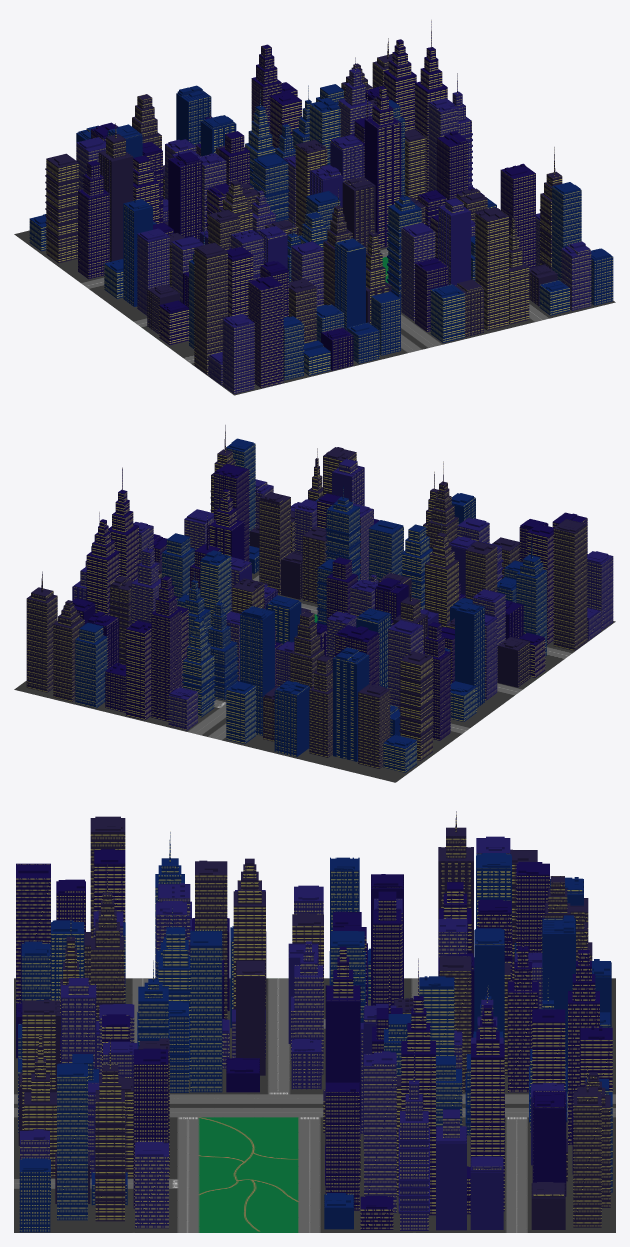
File: Cityscape.obj
3 renders of one model, top to bottom at view 1: azimuth 30°, elevation 25°; view 2: azimuth 150°, elevation 25°; view 3: azimuth 270°, elevation 25°, orthographic. The views are drawn at different scales.
Visible parts, largest first — view 1: g qTown_basePlane_geo, g building_grp grp_building_geo92, g building_grp grp_building_geo33, g building_grp grp_building_geo94, g building_grp grp_building_geo93, g building_grp grp_building_geo149, g building_grp grp_building_geo122, g building_grp grp_building_geo123, g building_grp grp_building_geo114, g building_grp grp_building_geo45, g building_grp grp_building_geo6, g building_grp grp_building_geo18 (+71 smaller); view 2: g qTown_basePlane_geo, g building_grp grp_building_geo33, g building_grp grp_building_geo159, g building_grp grp_building_geo68, g building_grp grp_building_geo149, g building_grp grp_building_geo167, g building_grp grp_building_geo86, g building_grp grp_building_geo56, g building_grp grp_building_geo113, g building_grp grp_building_geo178, g building_grp grp_building_geo186, g building_grp grp_building_geo160 (+63 smaller); view 3: g qTown_basePlane_geo, g building_grp grp_building_geo50, g building_grp grp_building_geo30, g building_grp grp_building_geo82, g building_grp grp_building_geo72, g building_grp grp_building_geo147, g building_grp grp_building_geo161, g building_grp grp_building_geo92, g building_grp grp_building_geo86, g building_grp grp_building_geo109, g building_grp grp_building_geo97, g building_grp grp_building_geo85 (+68 smaller).
Boxes of the visible parts, x1=… form: g qTown_basePlane_geo: x1=14, y1=230, x2=615, y2=395; g building_grp grp_building_geo92: x1=364, y1=86, x2=401, y2=247; g building_grp grp_building_geo33: x1=194, y1=242, x2=227, y2=374; g building_grp grp_building_geo94: x1=475, y1=207, x2=508, y2=330; g building_grp grp_building_geo93: x1=248, y1=276, x2=283, y2=388; g building_grp grp_building_geo149: x1=45, y1=153, x2=78, y2=263; g building_grp grp_building_geo122: x1=78, y1=160, x2=109, y2=279; g building_grp grp_building_geo123: x1=98, y1=123, x2=133, y2=261; g building_grp grp_building_geo114: x1=168, y1=151, x2=201, y2=239; g building_grp grp_building_geo45: x1=500, y1=163, x2=535, y2=267; g building_grp grp_building_geo6: x1=335, y1=238, x2=365, y2=330; g building_grp grp_building_geo18: x1=438, y1=198, x2=470, y2=285; g qTown_basePlane_geo: x1=14, y1=570, x2=615, y2=782; g building_grp grp_building_geo33: x1=553, y1=519, x2=587, y2=650; g building_grp grp_building_geo159: x1=151, y1=576, x2=181, y2=721; g building_grp grp_building_geo68: x1=333, y1=647, x2=369, y2=761; g building_grp grp_building_geo149: x1=399, y1=651, x2=433, y2=760; g building_grp grp_building_geo167: x1=240, y1=606, x2=274, y2=735; g building_grp grp_building_geo86: x1=26, y1=571, x2=57, y2=692; g building_grp grp_building_geo56: x1=259, y1=492, x2=290, y2=594; g building_grp grp_building_geo113: x1=455, y1=602, x2=484, y2=707; g building_grp grp_building_geo178: x1=274, y1=680, x2=309, y2=756; g building_grp grp_building_geo186: x1=75, y1=622, x2=107, y2=708; g building_grp grp_building_geo160: x1=126, y1=620, x2=151, y2=720; g qTown_basePlane_geo: x1=14, y1=978, x2=615, y2=1232; g building_grp grp_building_geo50: x1=190, y1=930, x2=222, y2=1092; g building_grp grp_building_geo30: x1=57, y1=1063, x2=87, y2=1220; g building_grp grp_building_geo82: x1=364, y1=1051, x2=396, y2=1212; g building_grp grp_building_geo72: x1=95, y1=1033, x2=125, y2=1221; g building_grp grp_building_geo147: x1=471, y1=1005, x2=504, y2=1211; g building_grp grp_building_geo161: x1=398, y1=1051, x2=429, y2=1230; g building_grp grp_building_geo92: x1=325, y1=946, x2=360, y2=1124; g building_grp grp_building_geo86: x1=573, y1=1064, x2=601, y2=1227; g building_grp grp_building_geo109: x1=325, y1=1082, x2=359, y2=1210; g building_grp grp_building_geo97: x1=401, y1=958, x2=435, y2=1215; g building_grp grp_building_geo85: x1=436, y1=1109, x2=466, y2=1230.
Size of the model in its own units: 75 by 35.89 by 75.
Materials: 13 (13 with a texture image).
